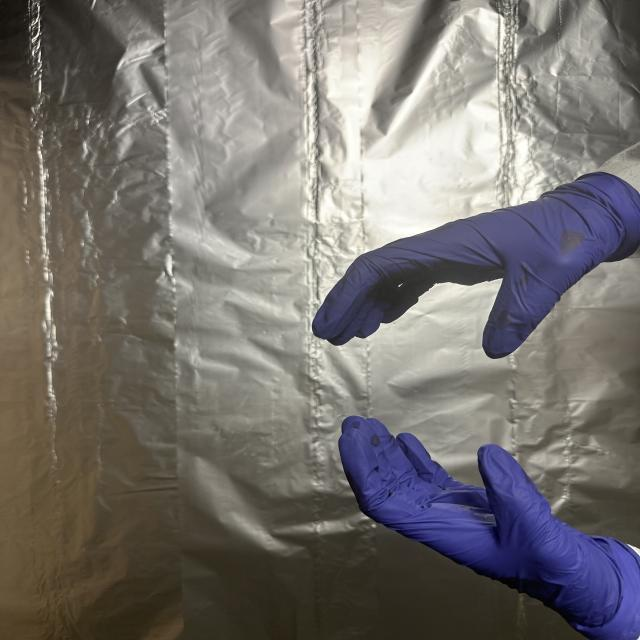gloves_contaminated: (339, 416, 640, 640), (312, 172, 640, 358)
